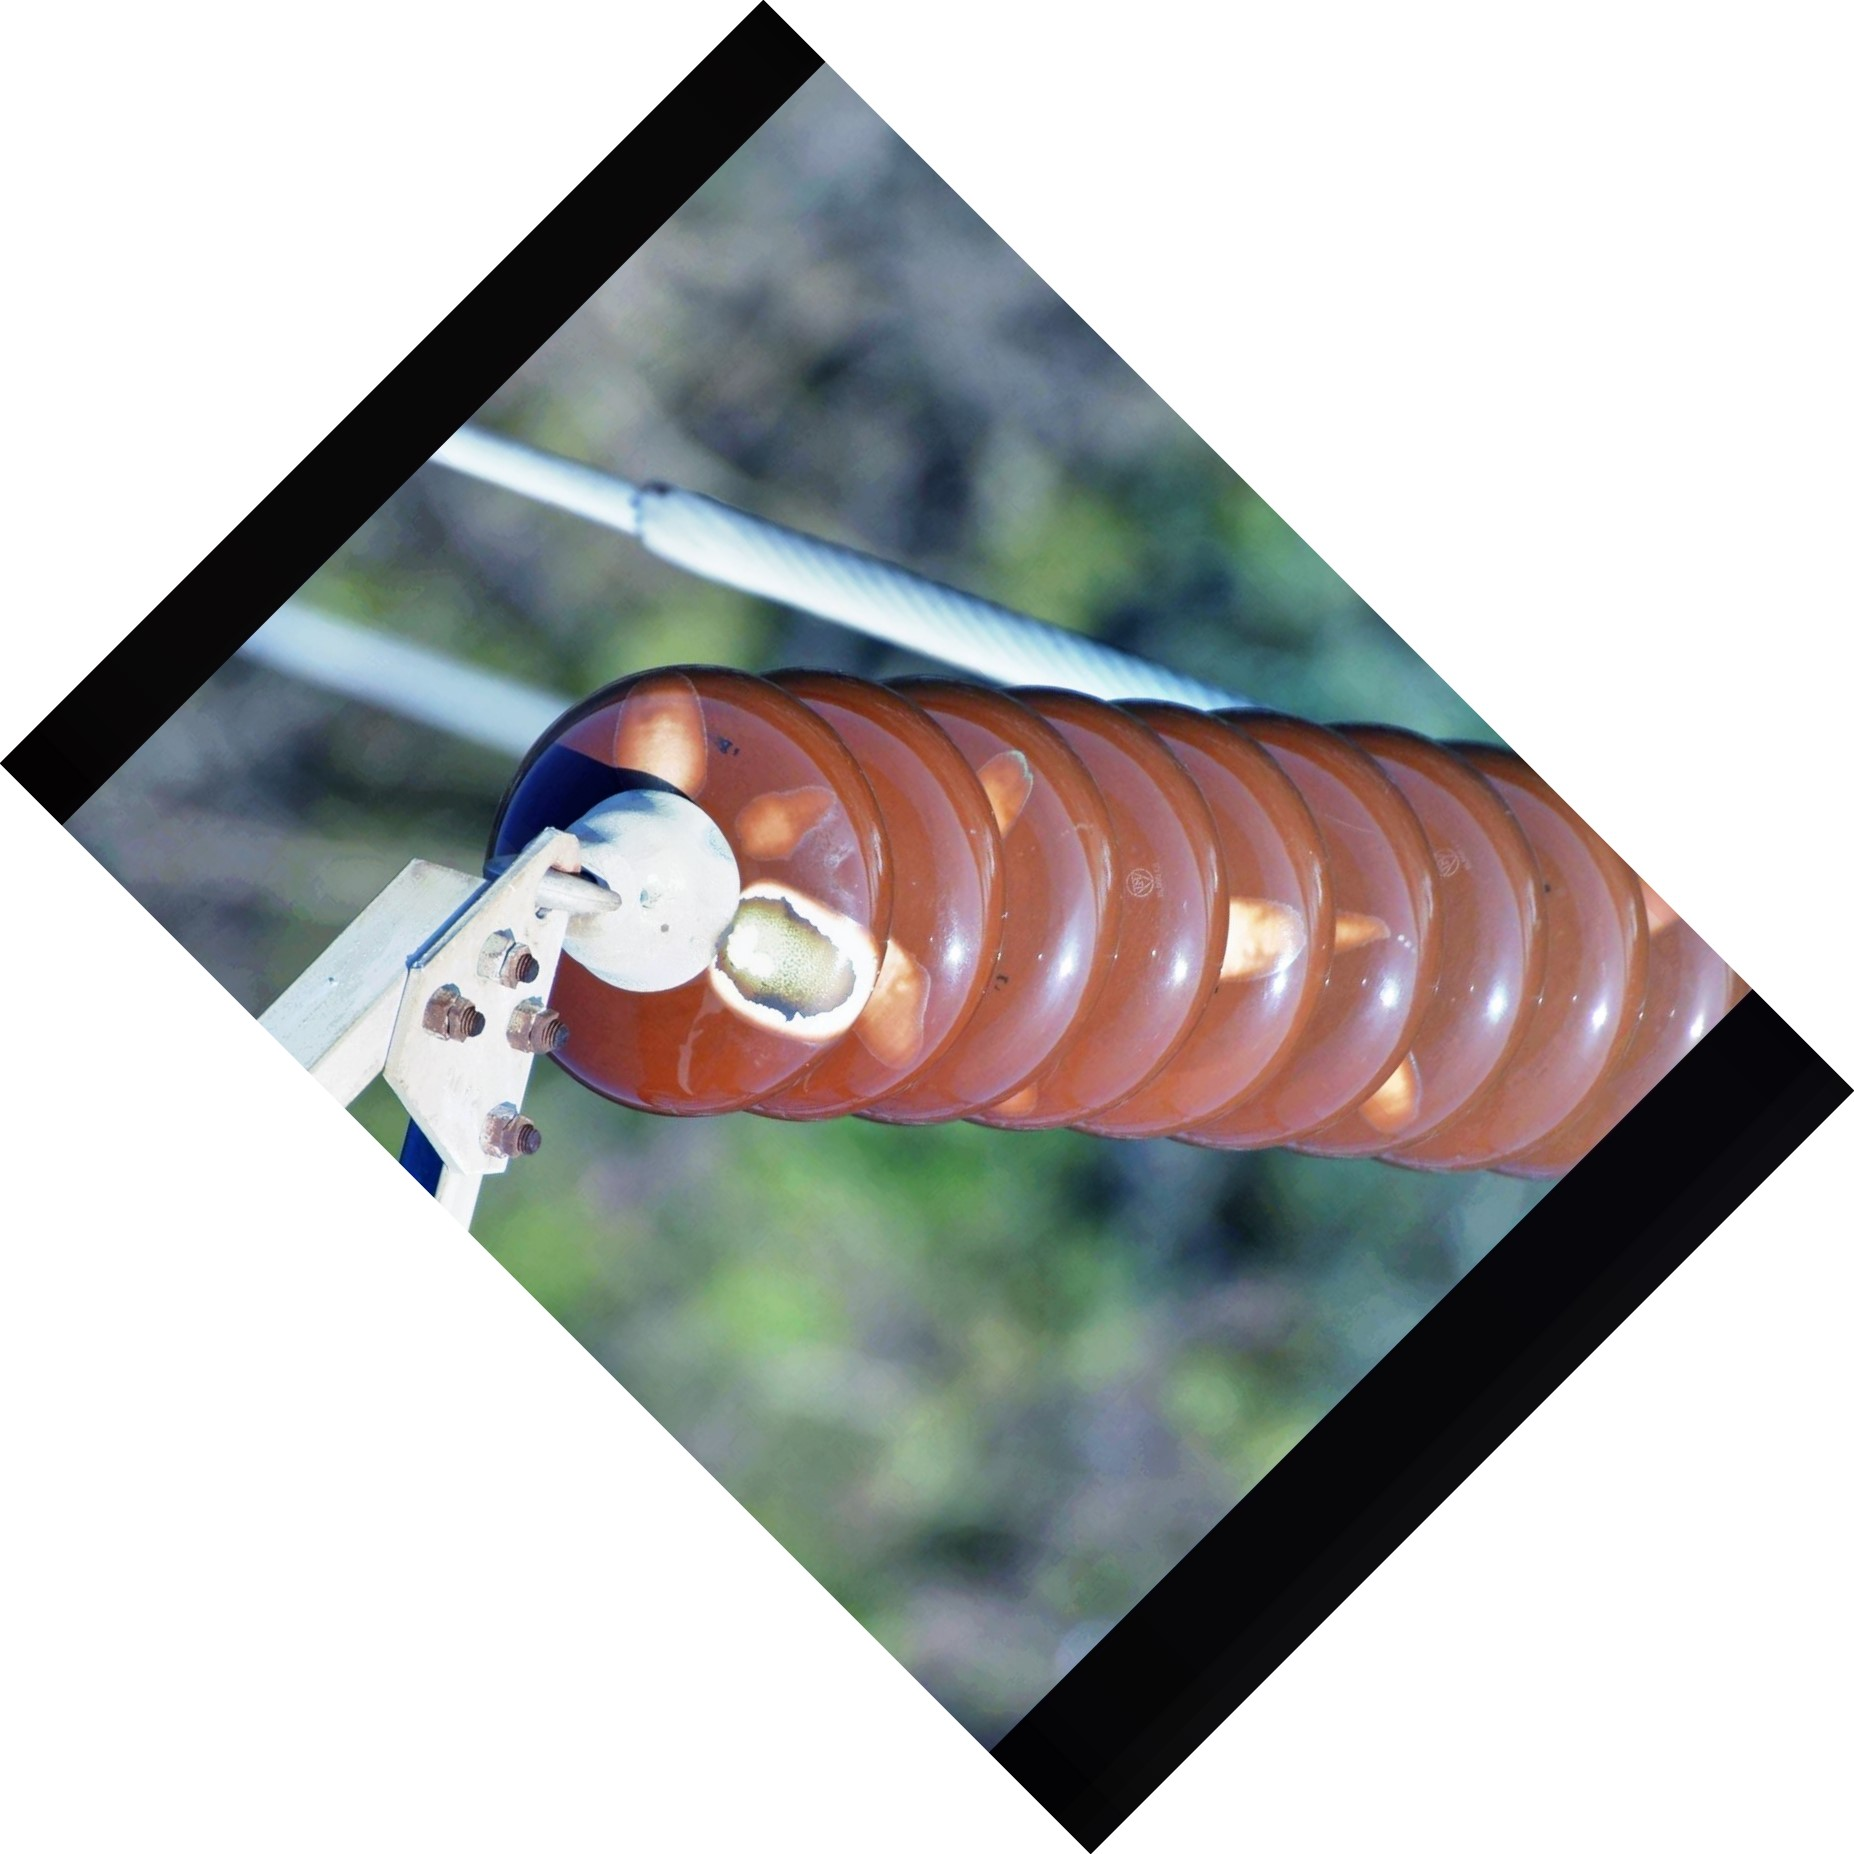Insulator flashover: (479, 654, 886, 1143)
